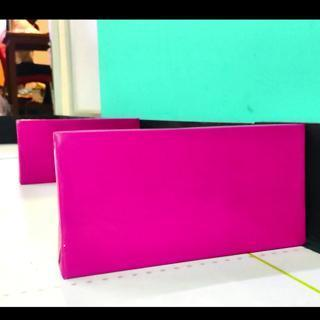xparking: (62, 132, 303, 283), (19, 120, 52, 184)
